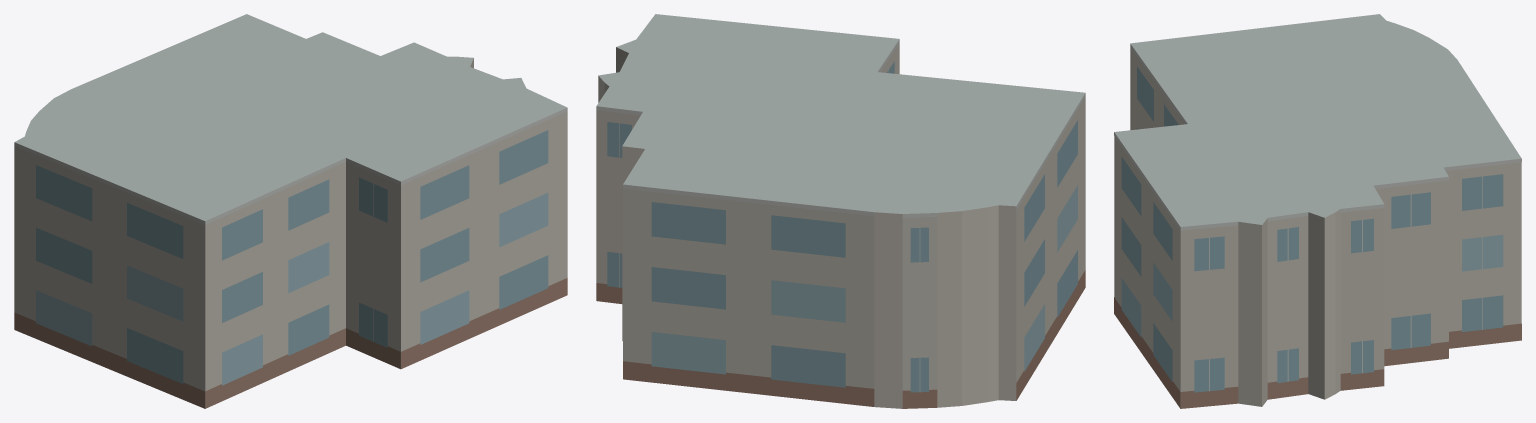
The model's file is survey-upis-32502733.glb.
3 renders of one model, left to right at view 1: azimuth 30°, elevation 25°; view 2: azimuth 150°, elevation 25°; view 3: azimuth 270°, elevation 25°, orthographic. The views are drawn at different scales.
Visible parts, largest first — view 1: survey-upis-32502733.tmp; view 2: survey-upis-32502733.tmp; view 3: survey-upis-32502733.tmp.
Boxes of the visible parts, x1,y1,x2,y2 form: survey-upis-32502733.tmp: (14,14,567,408); survey-upis-32502733.tmp: (596,14,1085,408); survey-upis-32502733.tmp: (1114,14,1521,408).
Size of the model in its own units: 30.15 by 12 by 24.38.
